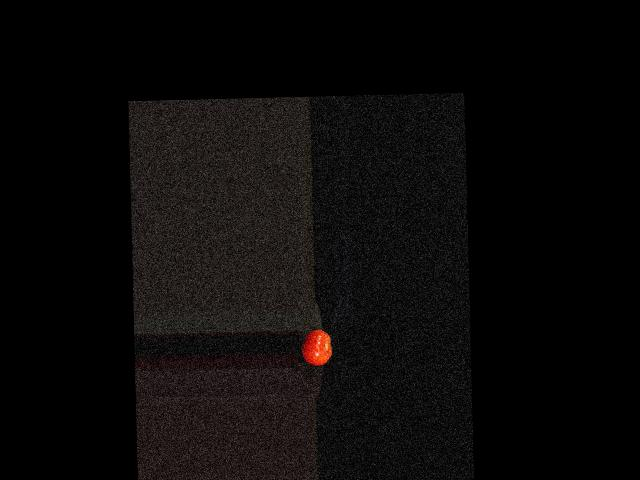tomato: (300, 329, 332, 366)
